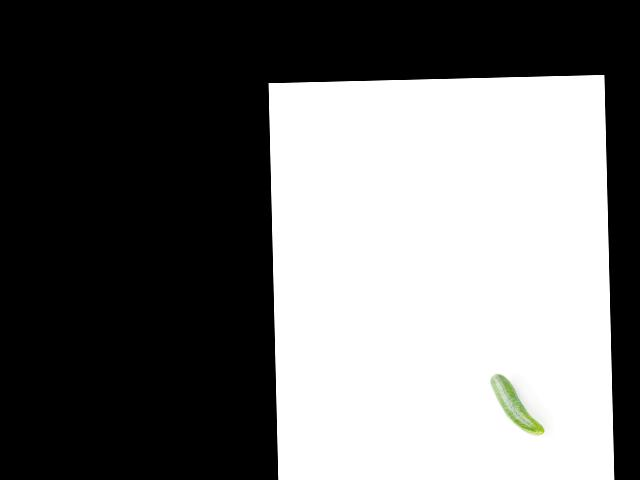cucumber: (490, 372, 545, 436)
